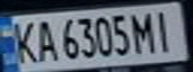0: (93, 12, 115, 59)
3: (75, 13, 96, 60)
5: (109, 11, 133, 56)
6: (57, 15, 81, 61)
A: (30, 17, 57, 64)
I: (148, 7, 184, 54)
K: (6, 17, 42, 65)
M: (127, 8, 160, 55)
